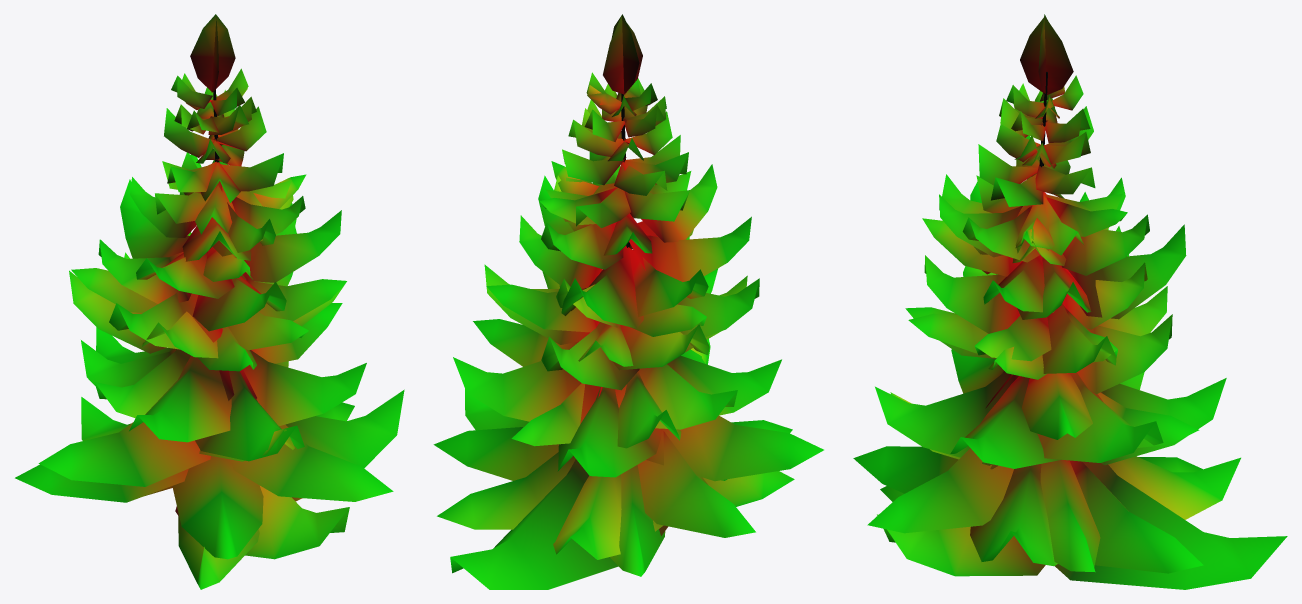
File: Spruce_Small_1_LOD_1.fbx
3 views of the same model, side by side, from view 1: azimuth 30°, elevation 25°; view 2: azimuth 150°, elevation 25°; view 3: azimuth 270°, elevation 25° (orthographic). The views are drawn at different scales.
Parts seen in each view (by area): view 1: Spruce_Small_1_LOD_1; view 2: Spruce_Small_1_LOD_1; view 3: Spruce_Small_1_LOD_1.
Boxes of the visible parts, bbox=[...] form: Spruce_Small_1_LOD_1: bbox=[15, 14, 404, 589]; Spruce_Small_1_LOD_1: bbox=[433, 14, 823, 589]; Spruce_Small_1_LOD_1: bbox=[853, 14, 1287, 589].
Size of the model in its own units: 6.46 by 8.83 by 6.38.
